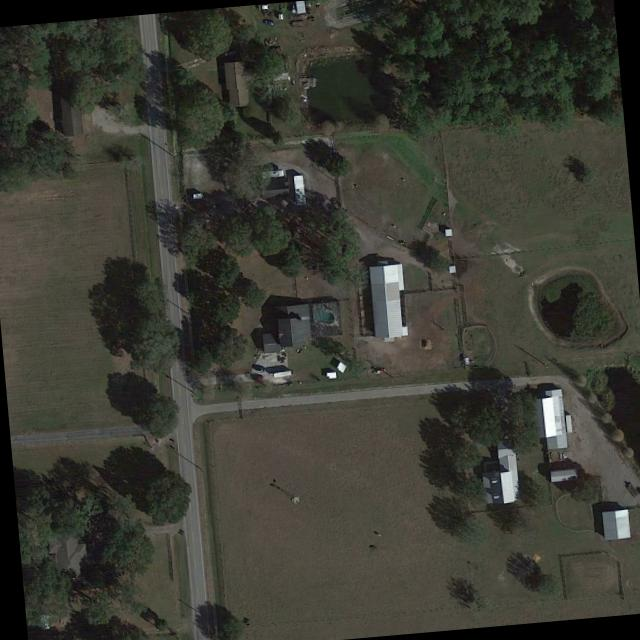small-vehicle: (251, 363, 264, 373), (251, 373, 263, 382), (262, 19, 272, 26)
